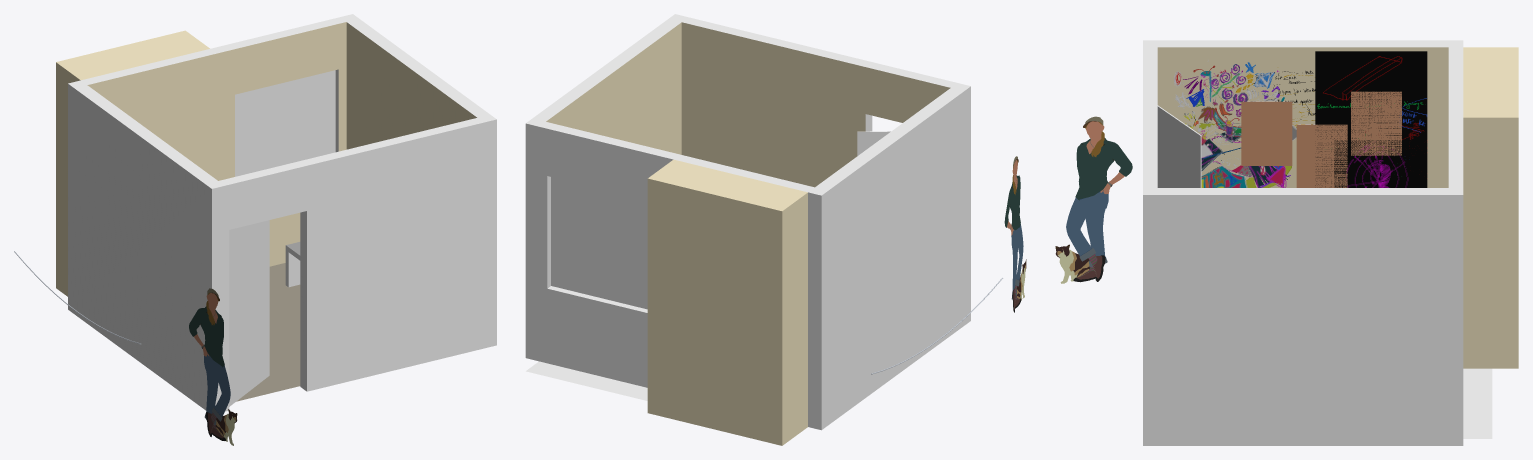
Rendered from room.fbx.
3 renders of one model, left to right at view 1: azimuth 30°, elevation 25°; view 2: azimuth 150°, elevation 25°; view 3: azimuth 270°, elevation 25°, orthographic. The views are drawn at different scales.
Visible parts, largest first — view 1: Model, Group7, Group1, Heather1, Group3, Group4, Group2, Untitled1; view 2: Model, Group1, Group3, Group4, Group2, Heather1; view 3: Model, Group1, Heather1, Component_1_1, Component_1_2, Component_1_3, Group7.
Boxes of the visible parts, bbox=[...] form: Model: bbox=[68, 14, 496, 411]; Group7: bbox=[229, 220, 269, 406]; Group1: bbox=[56, 30, 209, 296]; Heather1: bbox=[189, 288, 237, 445]; Group3: bbox=[266, 78, 300, 169]; Group4: bbox=[301, 70, 335, 160]; Group2: bbox=[235, 87, 266, 176]; Untitled1: bbox=[285, 242, 300, 287]; Model: bbox=[525, 14, 970, 430]; Group1: bbox=[647, 159, 807, 445]; Group3: bbox=[587, 185, 622, 303]; Group4: bbox=[551, 177, 586, 294]; Group2: bbox=[623, 194, 647, 309]; Heather1: bbox=[1004, 156, 1026, 312]; Model: bbox=[1143, 40, 1492, 445]; Group1: bbox=[1463, 47, 1518, 368]; Heather1: bbox=[1055, 116, 1132, 283]; Component_1_1: bbox=[1241, 101, 1292, 165]; Component_1_2: bbox=[1296, 124, 1347, 187]; Component_1_3: bbox=[1351, 91, 1401, 155]; Group7: bbox=[1157, 105, 1201, 187].
Size of the model in its own units: 3891 by 2858 by 4179.
